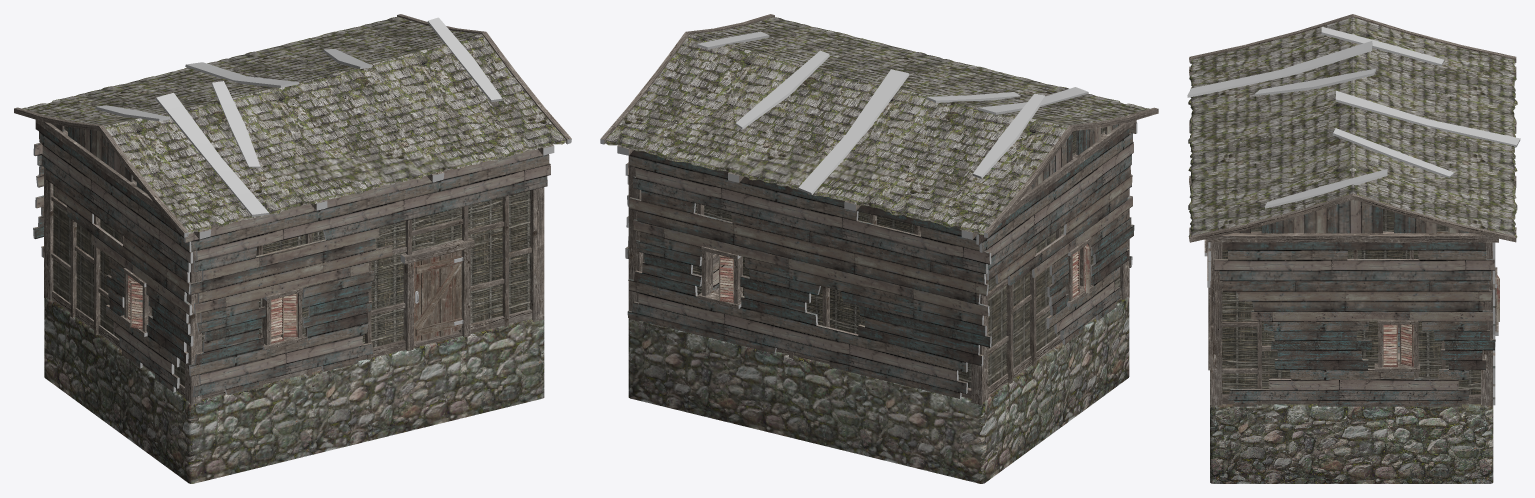
File: House9.fbx
3 views of the same model, side by side, from view 1: azimuth 30°, elevation 25°; view 2: azimuth 150°, elevation 25°; view 3: azimuth 270°, elevation 25° (orthographic). The views are drawn at different scales.
Parts seen in each view (by area): view 1: Base, Roof, Floor, Doors; view 2: Base, Roof, Floor; view 3: Roof, Base, Floor.
Boxes of the visible parts, x1,y1,x2,y2 form: Base: (33,120,550,405); Roof: (14,14,571,239); Floor: (44,297,544,483); Doors: (414,250,463,341); Base: (625,122,1137,405); Roof: (600,14,1158,239); Floor: (628,261,1129,483); Roof: (1187,14,1520,242); Base: (1204,239,1499,407); Floor: (1210,324,1493,483).
Size of the model in its own units: 10.67 by 8.32 by 8.27.
